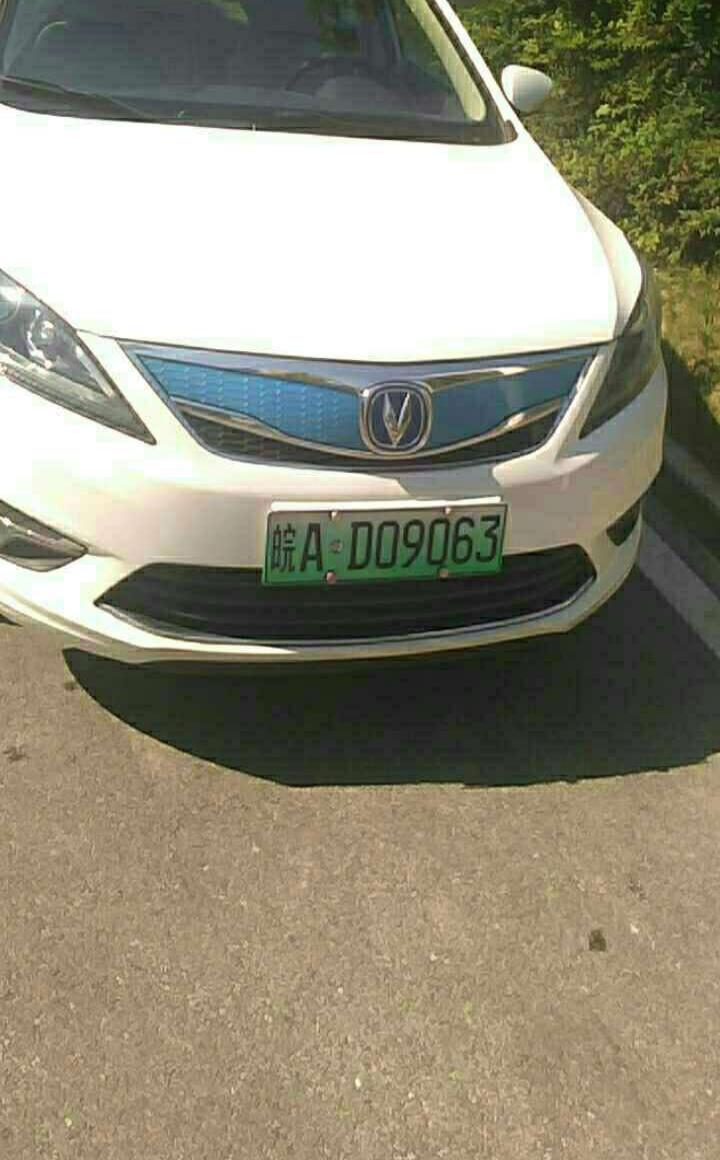car_id: (267, 503, 512, 586)
